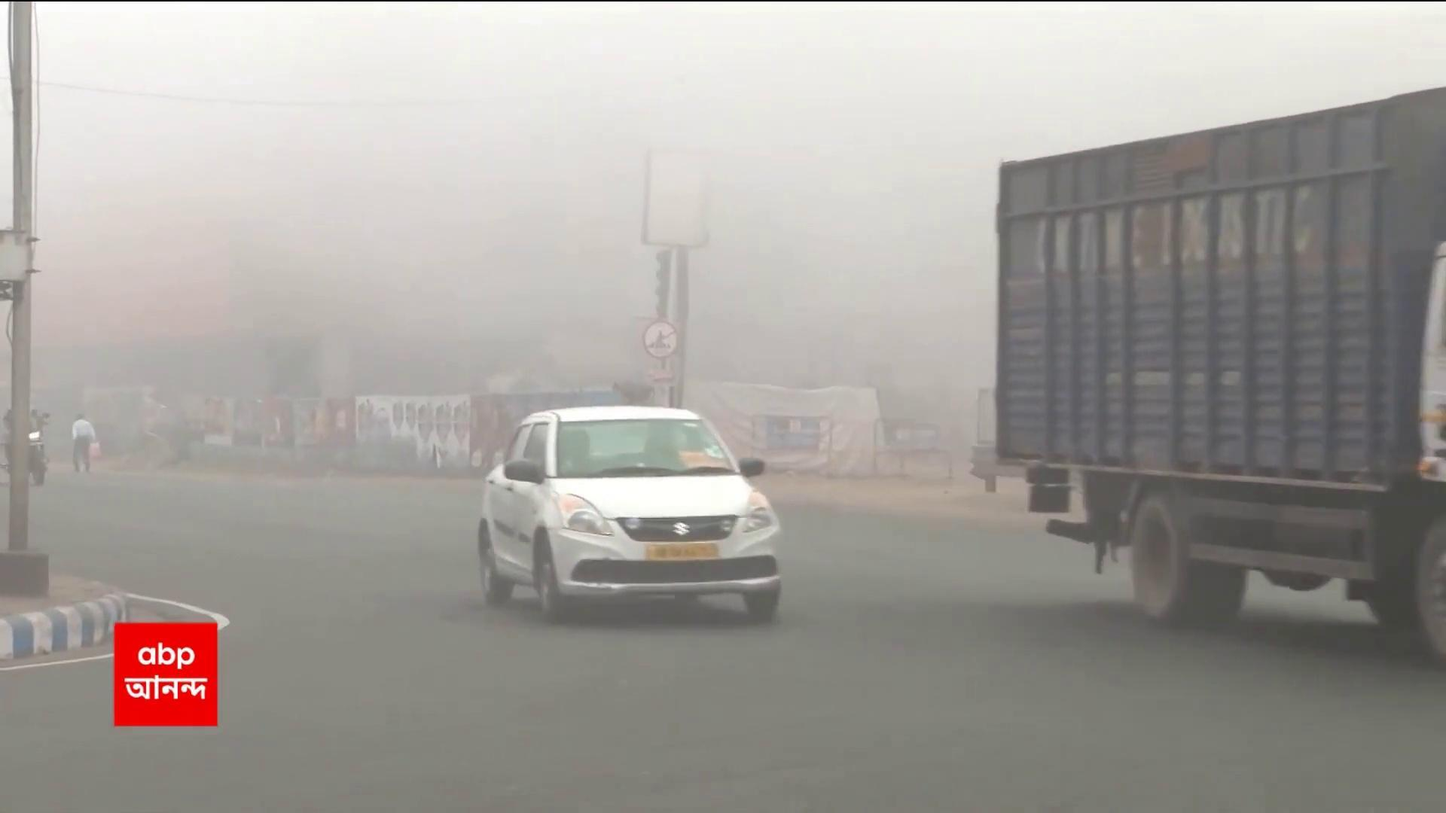Car: (467, 402, 785, 619)
Truck: (993, 83, 1446, 678)
